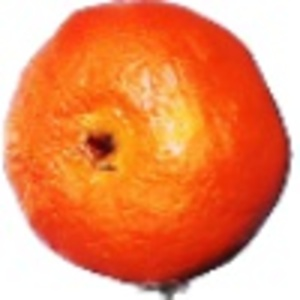tangerina: (1, 1, 294, 300)
